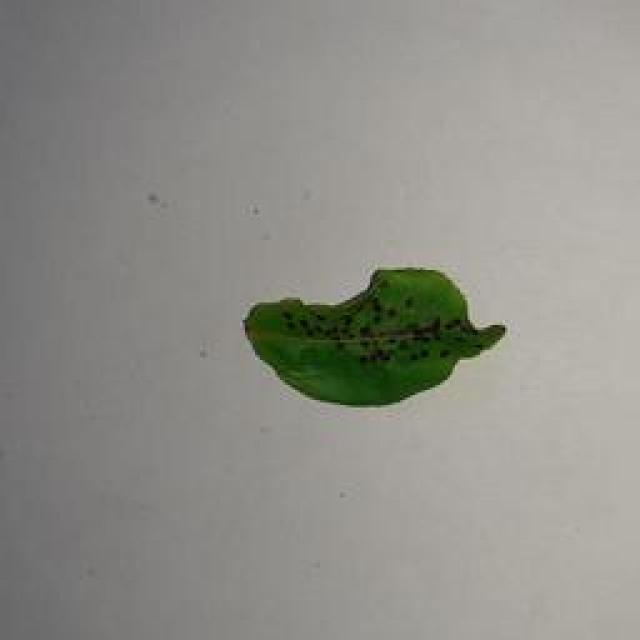Helopeltis: (241, 256, 507, 405)
